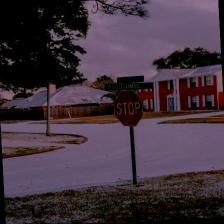Stop: (113, 90, 144, 128)
